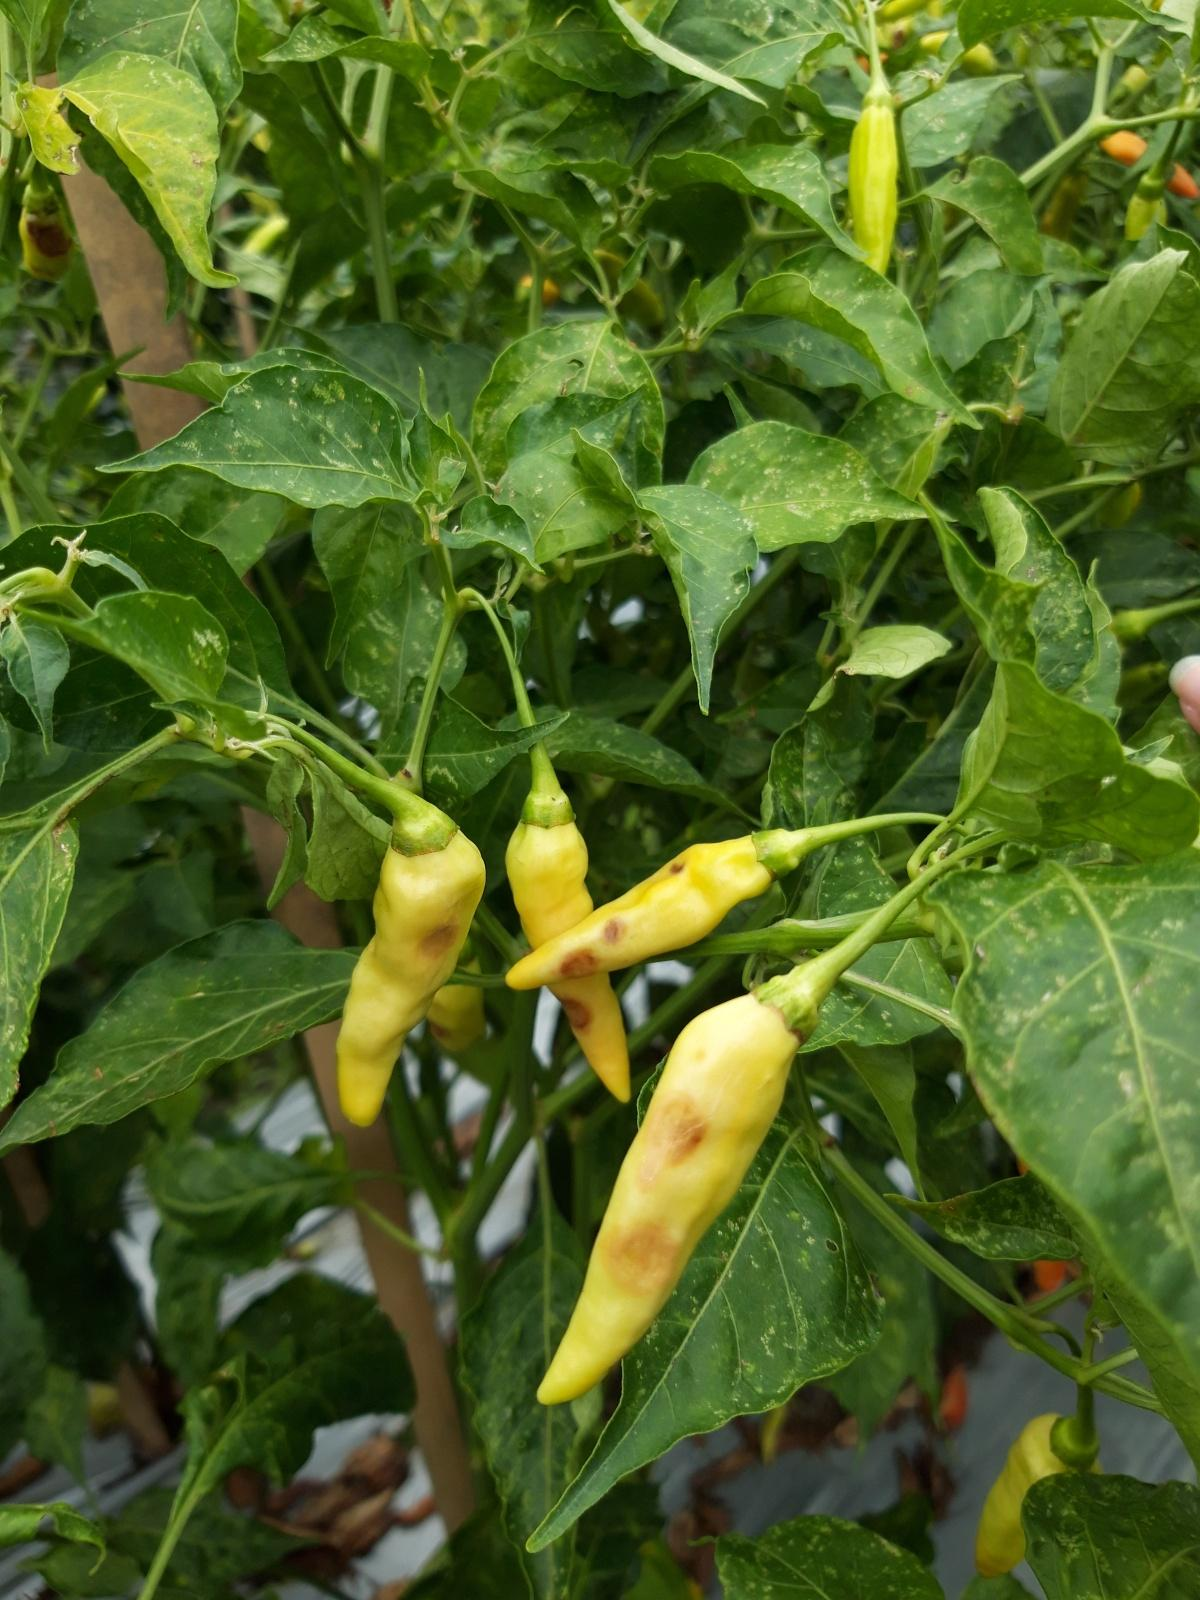cabai_normal: (974, 1413, 1096, 1581), (846, 84, 898, 276)
lalat_buah: (537, 972, 818, 1406), (336, 809, 486, 1126), (502, 830, 796, 991), (505, 796, 631, 1102)
